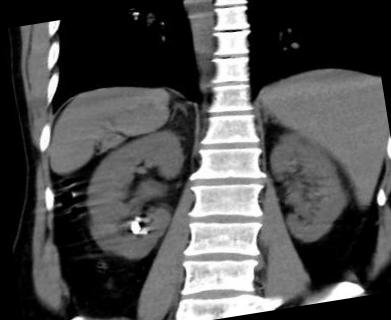Tas_Var: (128, 219, 141, 236), (132, 216, 141, 222), (138, 230, 144, 236), (144, 229, 148, 235), (142, 228, 144, 230)
